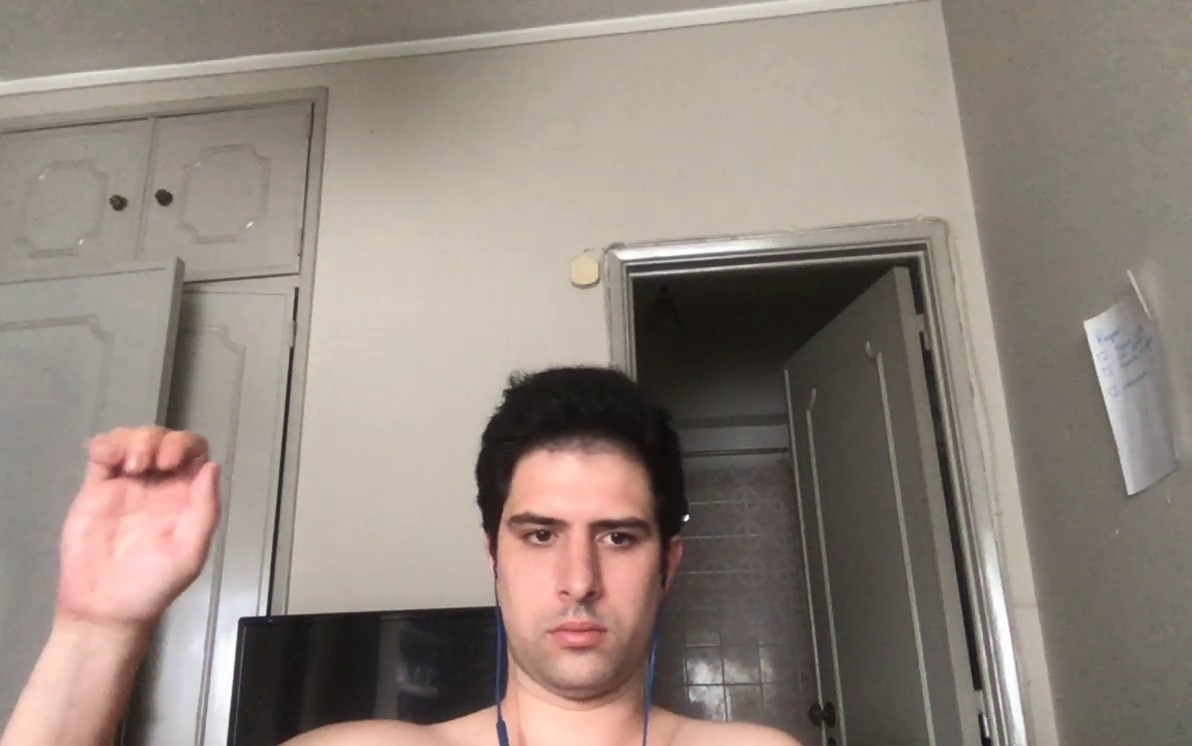c: (59, 424, 227, 626)
